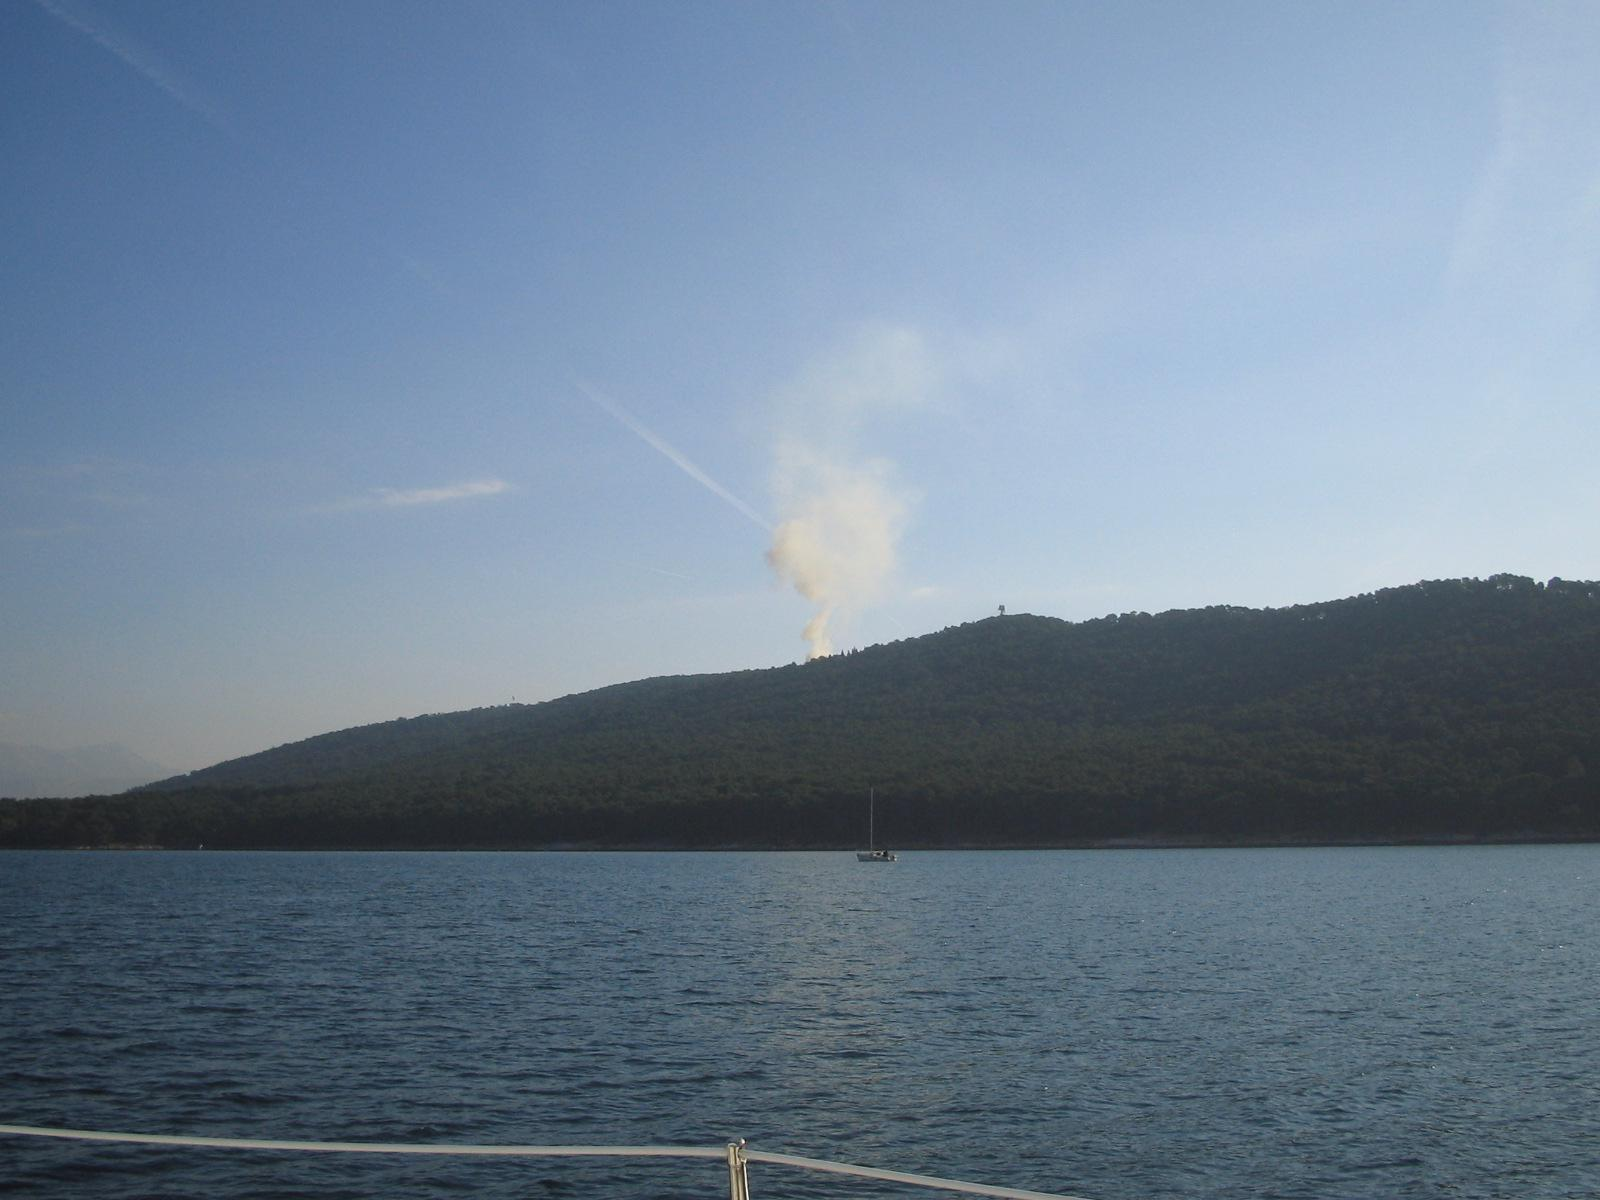Smoke: (740, 325, 950, 671)
